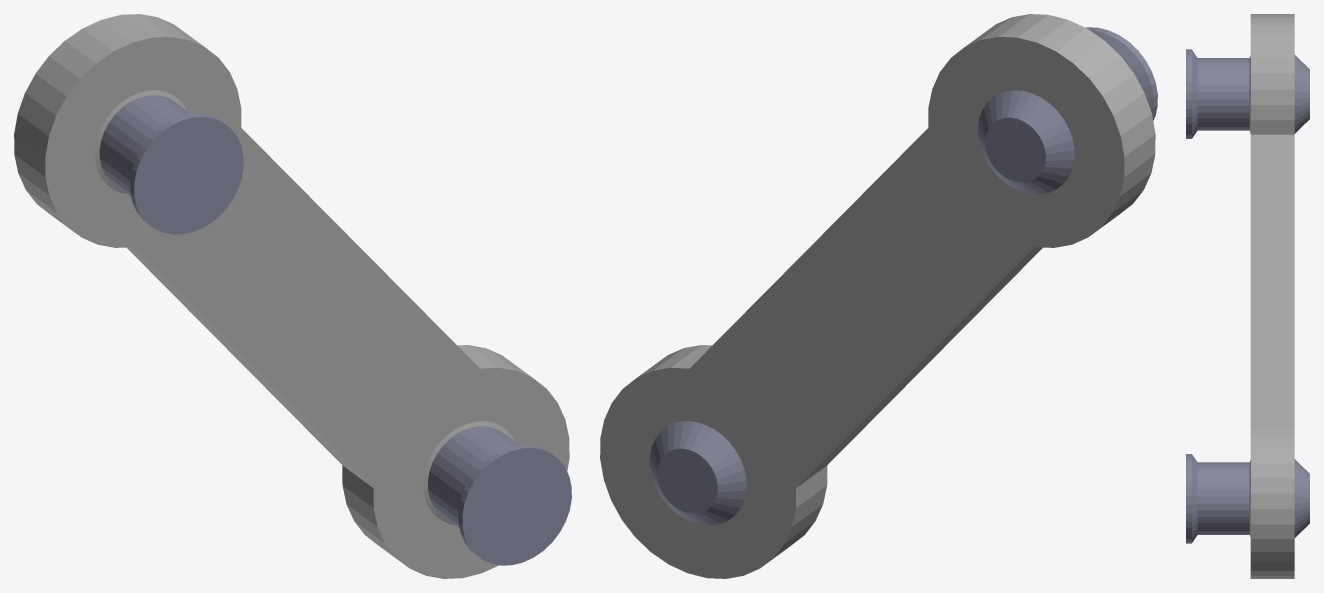
The model's file is mcatlinkF.dae.
3 views of the same model, side by side, from view 1: azimuth 30°, elevation 25°; view 2: azimuth 150°, elevation 25°; view 3: azimuth 270°, elevation 25° (orthographic). The views are drawn at different scales.
Parts seen in each view (by area): view 1: LinkS3; view 2: LinkS3; view 3: LinkS3.
Boxes of the visible parts, box(x1,y1,x2,y2) form: LinkS3: box(14, 14, 571, 578); LinkS3: box(600, 14, 1157, 578); LinkS3: box(1186, 14, 1309, 578).
Size of the model in its own units: 1.6 by 0.4621 by 1.79.
